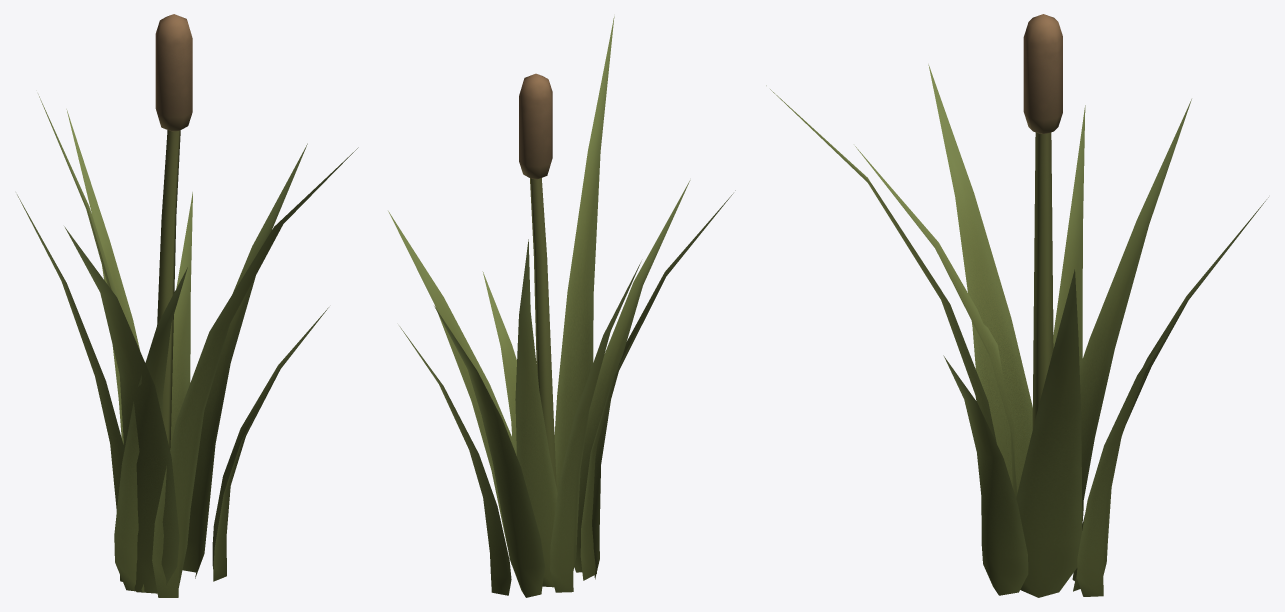
The model's file is SM_Reed_1.FBX.
3 views of the same model, side by side, from view 1: azimuth 30°, elevation 25°; view 2: azimuth 150°, elevation 25°; view 3: azimuth 270°, elevation 25° (orthographic). The views are drawn at different scales.
Visible parts, largest first — view 1: Reed 1; view 2: Reed 1; view 3: Reed 1.
Part boxes in pixels (x1,y1,x2,y2): Reed 1: [17, 14, 358, 597]; Reed 1: [388, 16, 735, 597]; Reed 1: [766, 14, 1268, 597].
Size of the model in its own units: 78.6 by 134 by 106.
